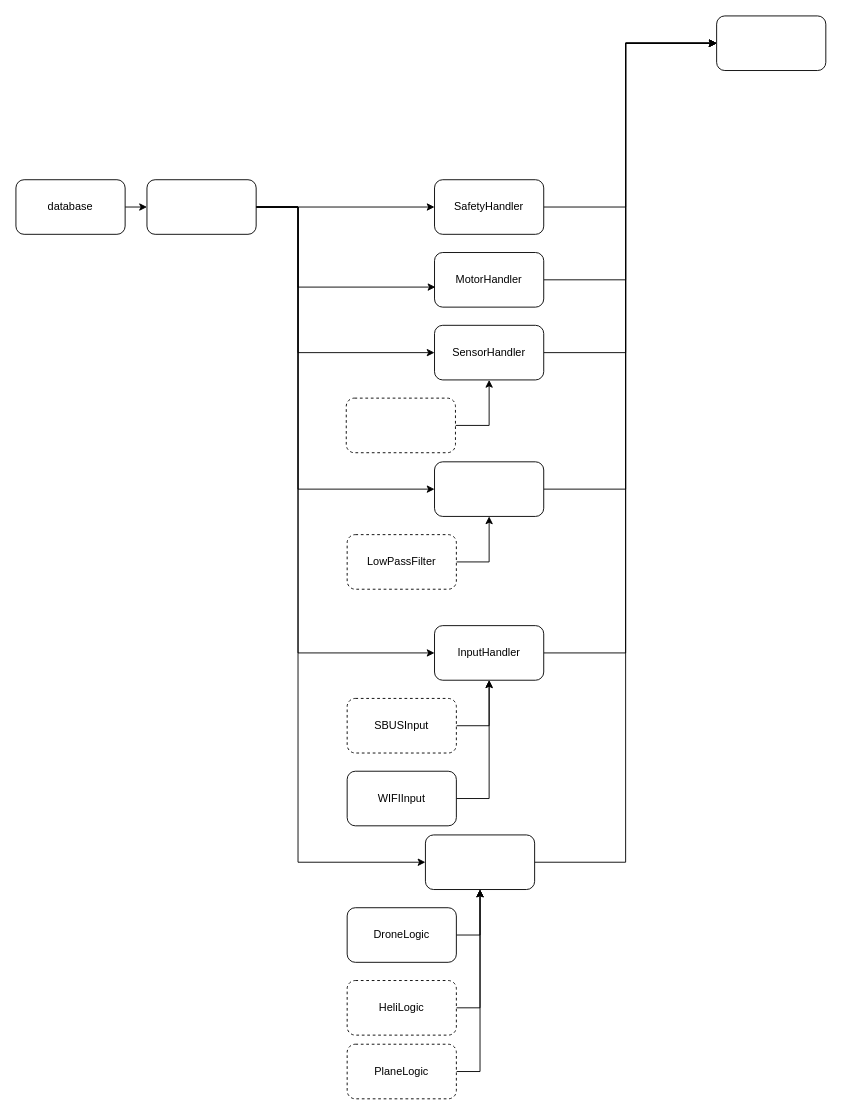
Some shapes in this 842 by 1115 pixel diagram are drawn without their labels. The shapes that lost their labels are listed below. From the top down, each one's centre as x and y in pixels, then its label:
the point at 771,43: main
the point at 201,206: DatabaseTool
the point at 400,425: MPU6050
the point at 489,488: FilterHandler
the point at 480,862: ModeManager
